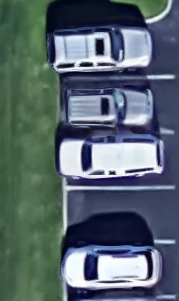Occupied: (64, 76, 174, 132), (65, 131, 174, 187), (65, 243, 175, 298), (64, 26, 174, 77)
Vacant: (65, 187, 175, 244)
